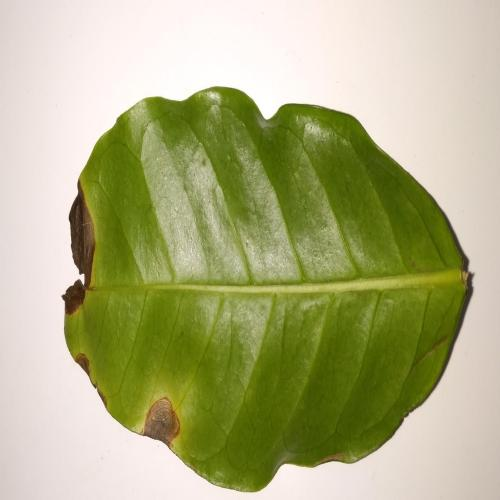cercospora: (135, 391, 189, 452)
leaf: (22, 72, 486, 498)
phoma: (45, 180, 102, 321), (66, 345, 92, 377)
